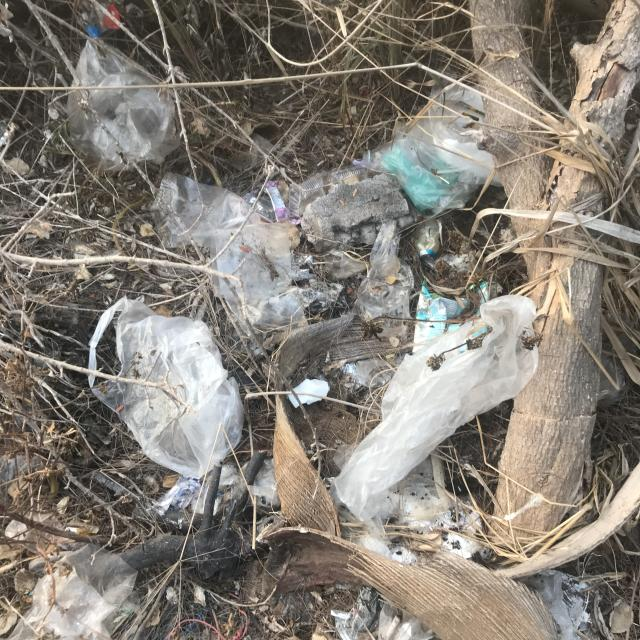Single-layer Plastic: (326, 294, 540, 532), (77, 288, 252, 489), (62, 30, 183, 173), (149, 166, 266, 270), (411, 89, 496, 175), (204, 224, 300, 299), (360, 142, 458, 208)
